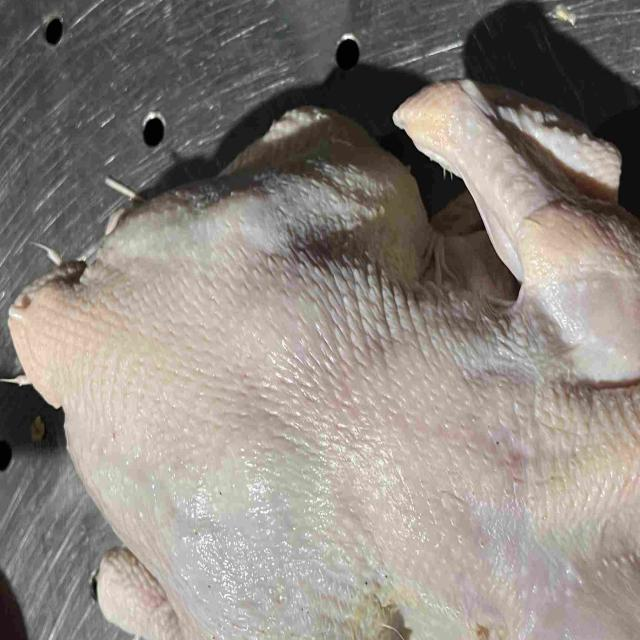back: (10, 255, 640, 640)
leg: (106, 105, 431, 280), (93, 549, 188, 640)
wing: (394, 80, 640, 383)
